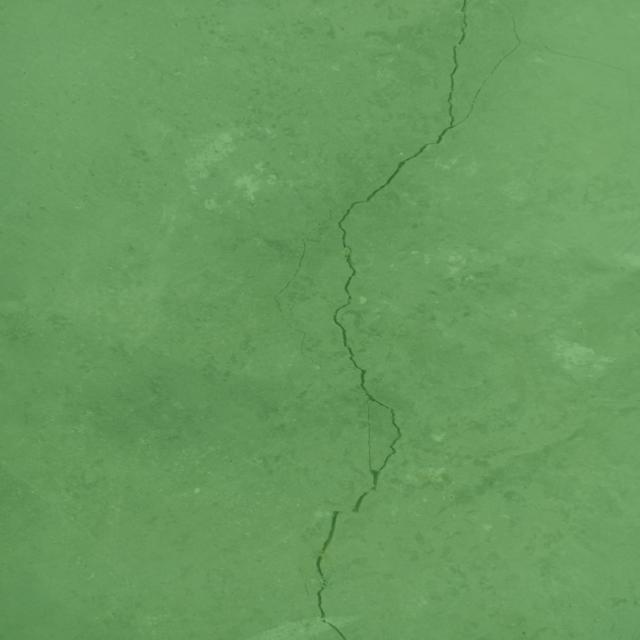crack: (315, 0, 621, 640), (270, 210, 334, 368)
